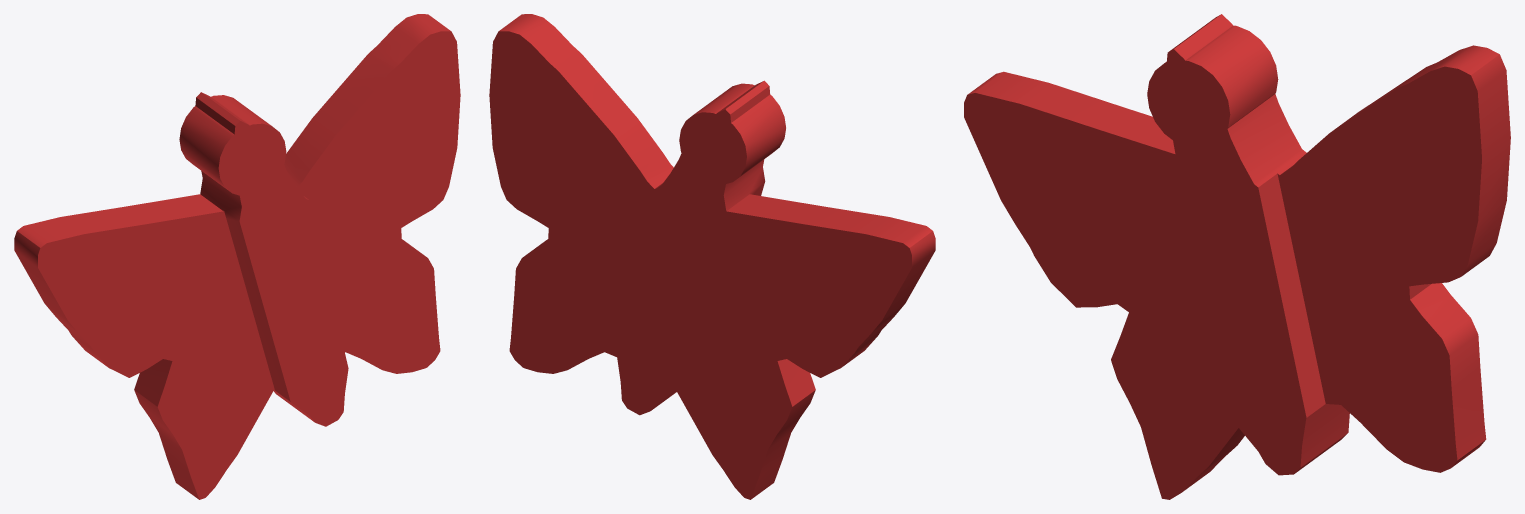
Rendered from butterflies_in_stomach_body.obj.
3 renders of one model, left to right at view 1: azimuth 30°, elevation 25°; view 2: azimuth 150°, elevation 25°; view 3: azimuth 330°, elevation 25°, orthographic. The views are drawn at different scales.
Visible parts, largest first — view 1: butterflies_in_stomach_visual; view 2: butterflies_in_stomach_visual; view 3: butterflies_in_stomach_visual.
Part boxes in pixels (x1=…): butterflies_in_stomach_visual: x1=14, y1=14, x2=460, y2=499; butterflies_in_stomach_visual: x1=489, y1=14, x2=935, y2=499; butterflies_in_stomach_visual: x1=964, y1=14, x2=1510, y2=499.
Bounding box in the file's own units: 0.0125 × 0.0115 × 0.002.
